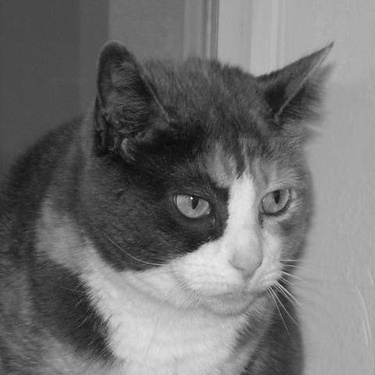cat: (4, 37, 338, 369)
